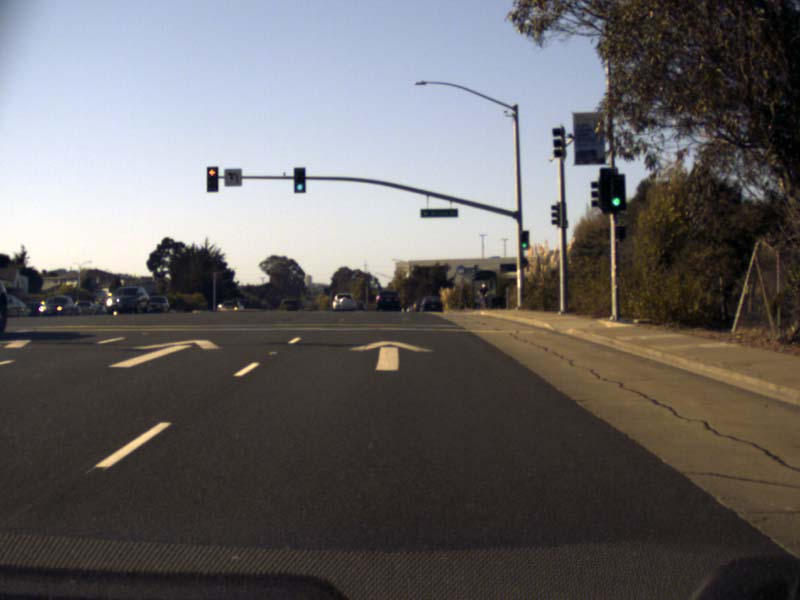Green: (607, 173, 624, 208), (293, 167, 305, 193), (519, 230, 528, 249)
Red: (206, 166, 217, 191)
